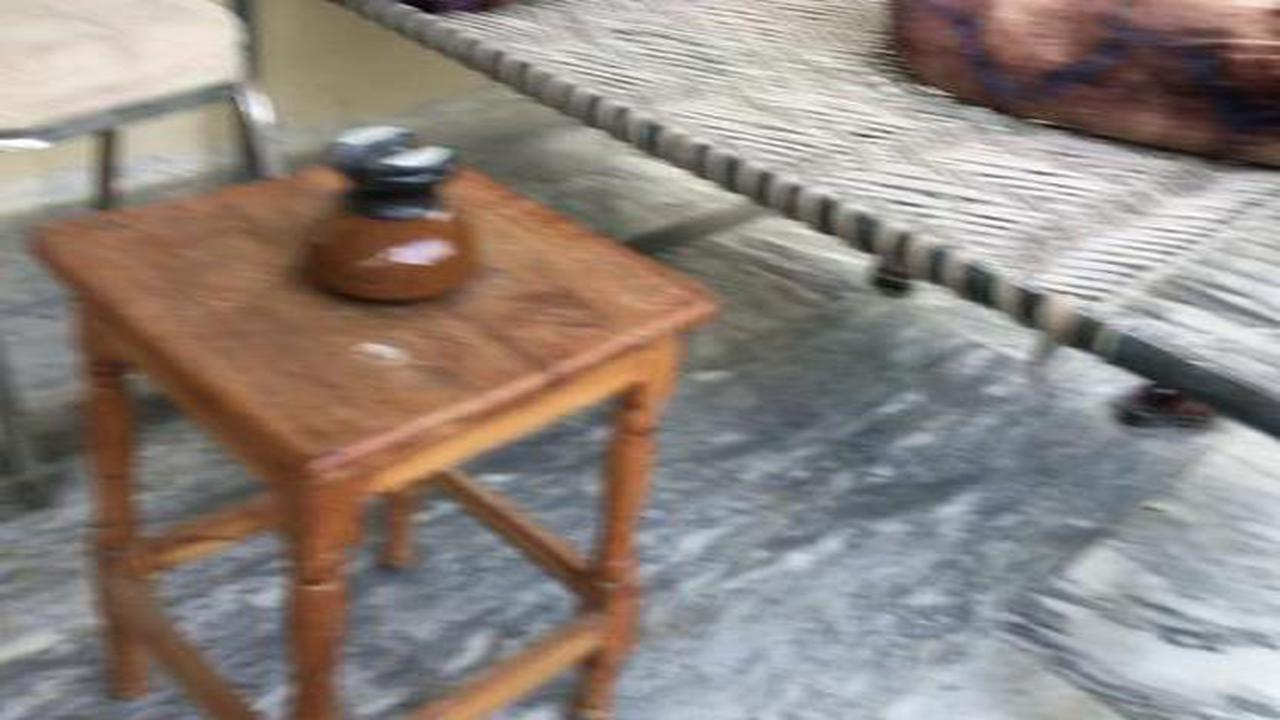insulator_pin: (287, 110, 499, 314)
